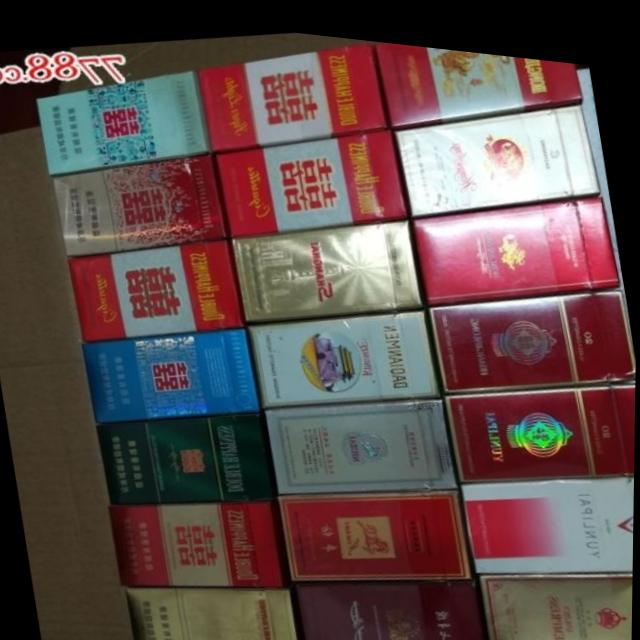box: (392, 89, 601, 208), (411, 182, 621, 297), (213, 118, 412, 233), (427, 275, 637, 383), (196, 35, 392, 148), (230, 209, 425, 318), (444, 365, 636, 471), (246, 298, 445, 400), (266, 385, 460, 487), (37, 65, 213, 176), (50, 148, 230, 256), (68, 234, 245, 339), (278, 479, 475, 573), (82, 321, 263, 421), (373, 33, 582, 119), (459, 461, 635, 562), (97, 404, 278, 500), (110, 493, 293, 583), (292, 564, 492, 640), (478, 557, 634, 640), (126, 576, 302, 640)
